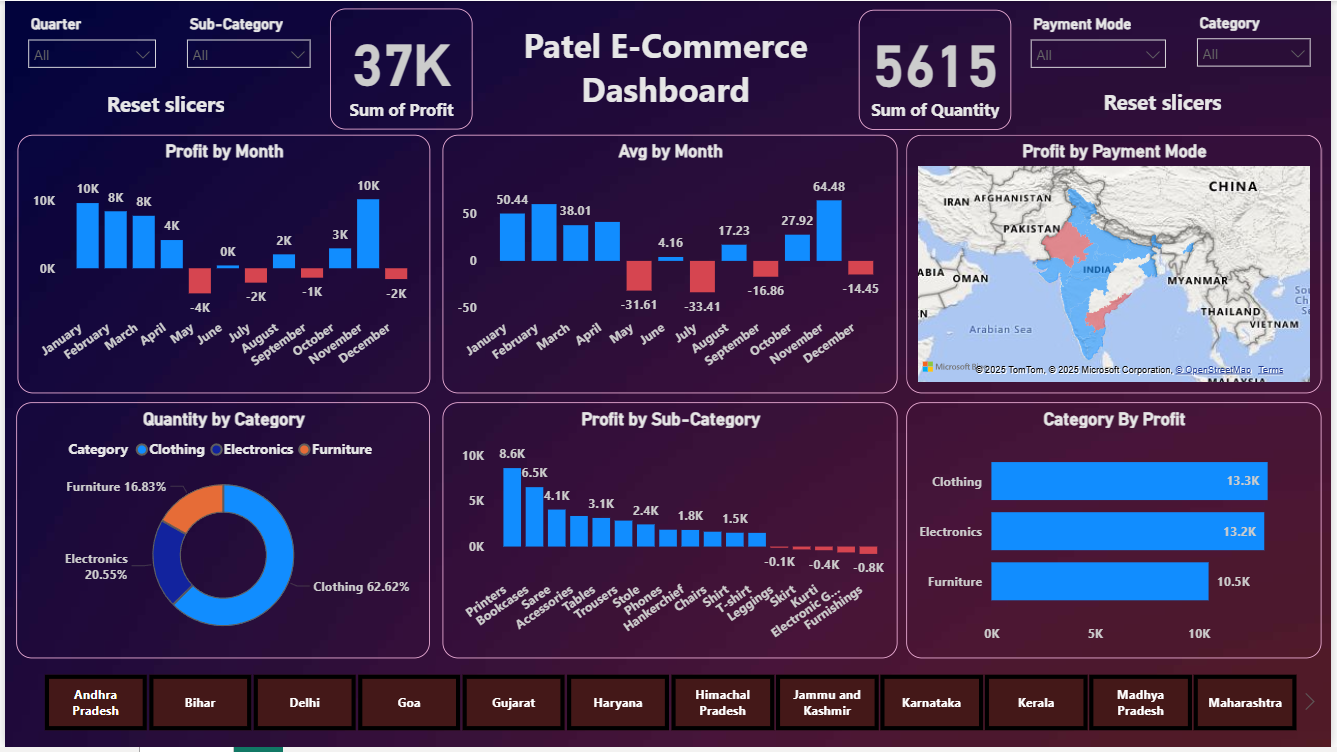

Layout of this report page (visuals, bound fields, positions):
{"tool":"powerbi","page":{"name":"Page 1","canvas":[1280,720],"ordinal":0},"visuals":[{"type":"textbox","box":[460.9,15.7,353.5,102.5],"z":0},{"type":"columnChart","title":"Profit by Month","fields":{"Y":["Details (1).Profit"],"Category":["Orders (1).Order Date.Variation.Date Hierarchy.Month"]},"box":[12.1,129.1,398.1,249.7],"z":1000},{"type":"columnChart","title":"Avg by Month","fields":{"Y":["Details (1).Profit"],"Category":["Orders (1).Order Date.Variation.Date Hierarchy.Month"]},"box":[422.3,129.1,439.1,249.7],"z":2000},{"type":"columnChart","title":" Profit by Sub-Category","fields":{"Category":["Details (1).Sub-Category"],"Y":["Details (1).Profit"]},"box":[422.3,387.3,439.1,247.3],"z":3000},{"type":"donutChart","title":"Quantity by Category","fields":{"Category":["Details (1).Category"],"Y":["Details (1).Quantity"]},"box":[10.9,387.3,399.3,247.3],"z":4000},{"type":"slicer","fields":{"Values":["Details (1).Category"]},"box":[1140.1,7.2,130.3,61.5],"z":5000},{"type":"slicer","fields":{"Values":["Orders (1).State"]},"box":[12.1,643,1258.3,67.6],"z":6000},{"type":"slicer","fields":{"Values":["Details (1).Sub-Category"]},"box":[165.3,8.4,139.9,63.9],"z":7000},{"type":"filledMap","title":"Profit by Payment Mode","fields":{"Category":["Orders (1).State"]},"box":[869.8,129.1,400.5,249.7],"z":8000},{"type":"slicer","fields":{"Values":["Details (1).PaymentMode"]},"box":[979.6,8.4,150.8,63.9],"z":9000},{"type":"barChart","title":"Category By Profit","fields":{"Category":["Details (1).Category"],"Y":["Details (1).Profit"]},"box":[869.8,387.3,400.5,247.3],"z":10000},{"type":"card","fields":{"Values":["Details (1).Profit"]},"box":[313.7,7.2,137.5,117],"z":11000},{"type":"slicer","fields":{"Values":["Orders (1).Order Date.Variation.Date Hierarchy.Quarter"]},"box":[12.1,8.4,143.6,63.9],"z":12000},{"type":"card","fields":{"Values":["Details (1).Quantity"]},"box":[824,8.4,147.2,115.8],"z":13000},{"type":"actionButton","box":[57.9,72.4,194.2,51.9],"z":14000},{"type":"actionButton","box":[1029.1,68.8,176.1,55.5],"z":15000}]}

Visuals, with their boxes in screenshot pixels (x1, y1, x2, y2), scaled from the page's 1280x720 canvas onto the 1337x752 screenshot:
textbox: 481 16 851 123
"Profit by Month" columnChart: 13 135 428 396
"Avg by Month" columnChart: 441 135 900 396
" Profit by Sub-Category" columnChart: 441 405 900 663
"Quantity by Category" donutChart: 11 405 428 663
slicer - Details (1).Category: 1191 8 1327 72
slicer - Orders (1).State: 13 672 1327 742
slicer - Details (1).Sub-Category: 173 9 319 76
"Profit by Payment Mode" filledMap: 909 135 1327 396
slicer - Details (1).PaymentMode: 1023 9 1181 76
"Category By Profit" barChart: 909 405 1327 663
card - Details (1).Profit: 328 8 471 130
slicer - Orders (1).Order Date.Variation.Date Hierarchy.Quarter: 13 9 163 76
card - Details (1).Quantity: 861 9 1014 130
actionButton: 60 76 263 130
actionButton: 1075 72 1259 130
